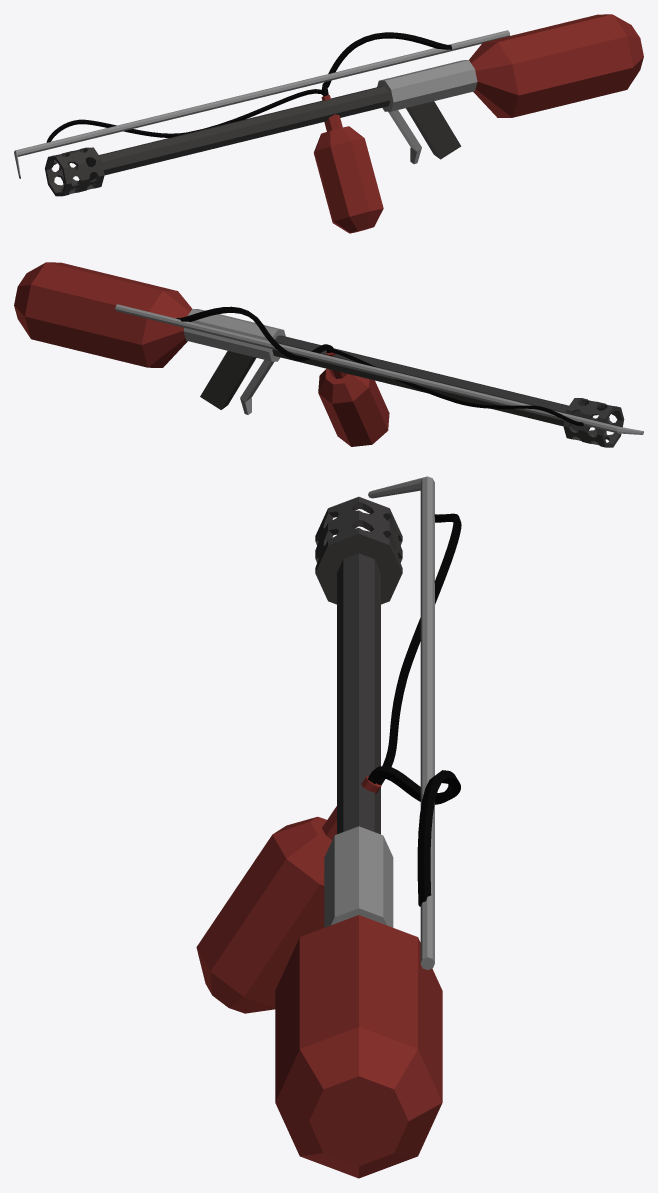
Rendered from flamethrower fbx.fbx.
3 views of the same model, one above another, from view 1: azimuth 30°, elevation 25°; view 2: azimuth 150°, elevation 25°; view 3: azimuth 270°, elevation 25° (orthographic). The views are drawn at different scales.
Parts seen in each view (by area): view 1: Cylinder; view 2: Cylinder; view 3: Cylinder.
Boxes of the visible parts, x1,y1,x2,y2 form: Cylinder: (14,14,643,233); Cylinder: (14,262,643,447); Cylinder: (196,476,461,1178).
Size of the model in its own units: 1731 by 405 by 327.
